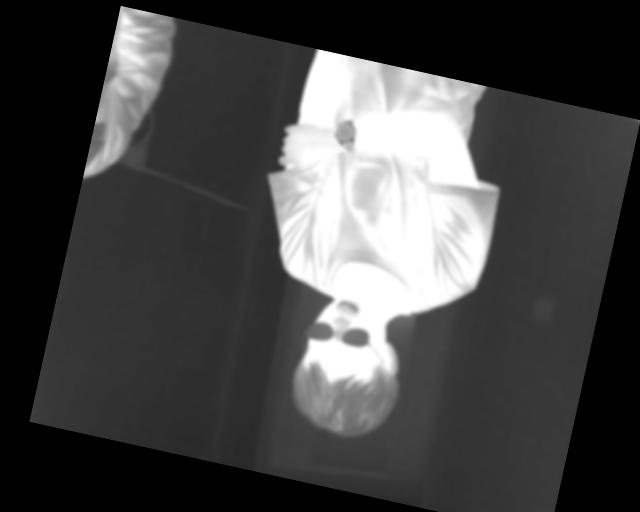face: (280, 284, 417, 447)
